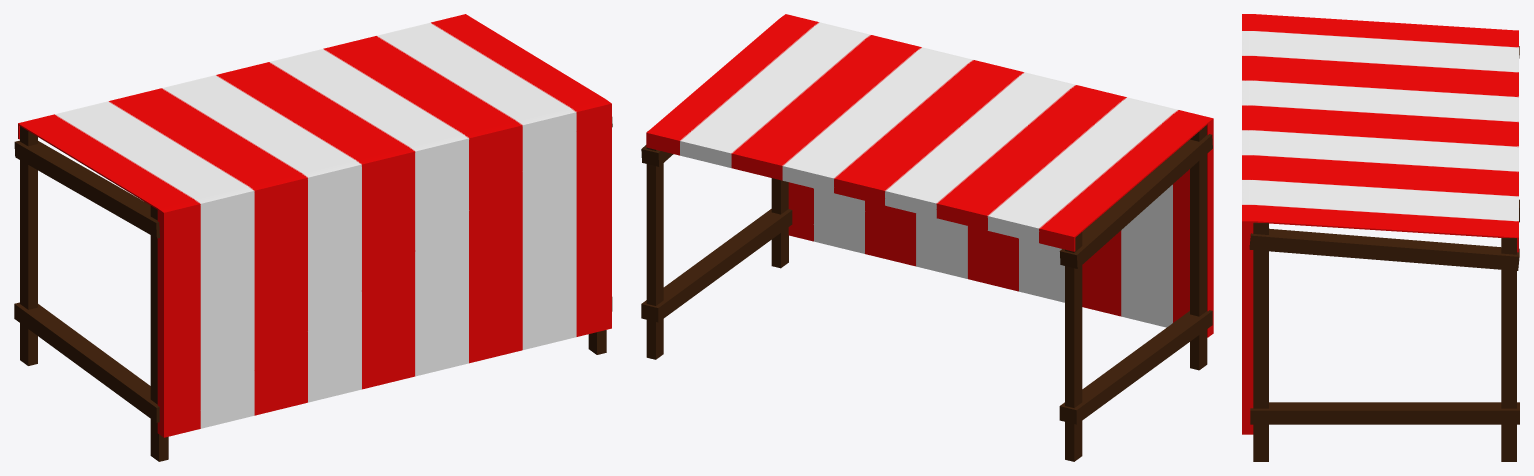
File: market.fbx
3 views of the same model, side by side, from view 1: azimuth 30°, elevation 25°; view 2: azimuth 150°, elevation 25°; view 3: azimuth 270°, elevation 25° (orthographic). The views are drawn at different scales.
Visible parts, largest first — view 1: Stall; view 2: Stall; view 3: Stall.
Boxes of the visible parts, box(x1,y1,x2,y2) form: Stall: box(14, 14, 612, 461); Stall: box(641, 14, 1213, 461); Stall: box(1242, 14, 1519, 461).
Size of the model in its own units: 1303 by 693 by 726.
Materials: 2 (2 with a texture image).
